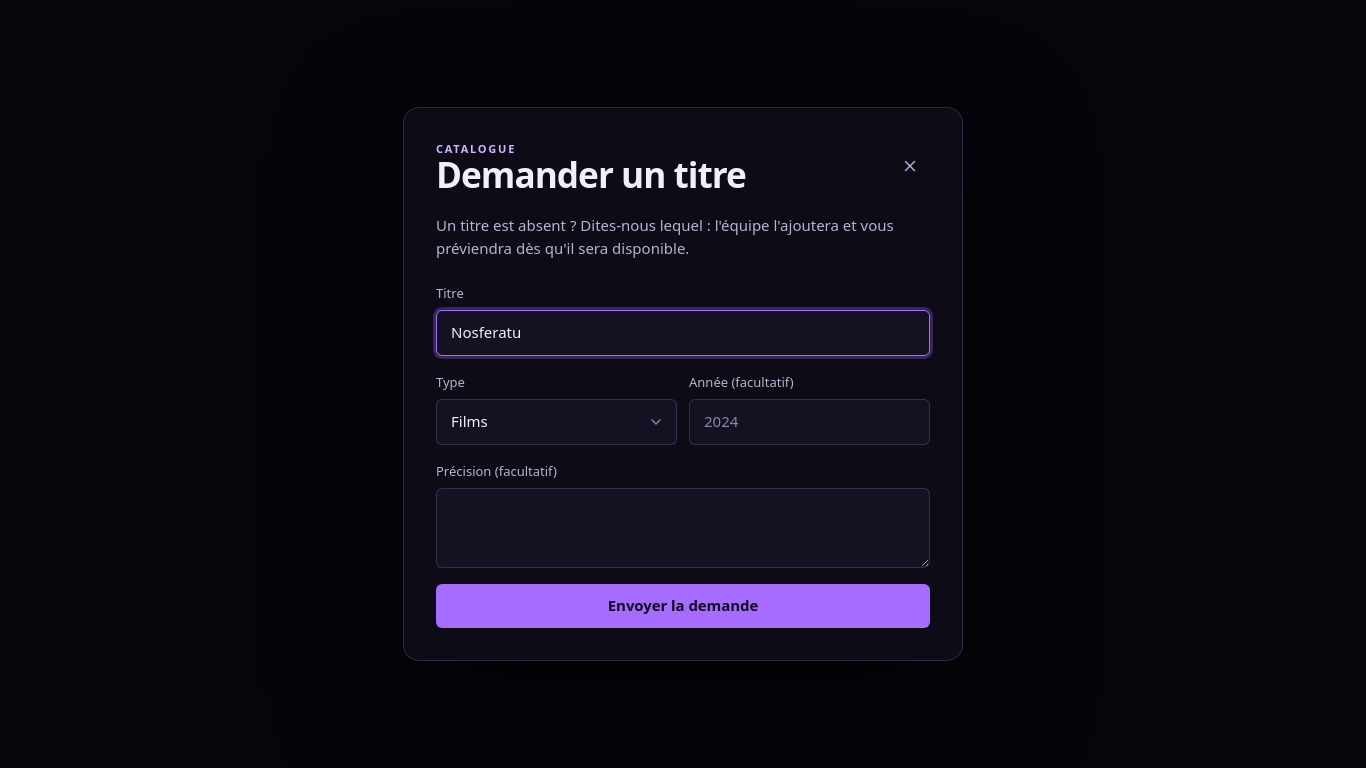
it: RequestDialog : messages d'erreur › un serveur injoignable donne un message traduit, jamais le mot « network »
The width and height of the screenshot is (1366, 768).
Click the button "Envoyer la demande": [683, 606] box [436,584,930,628]
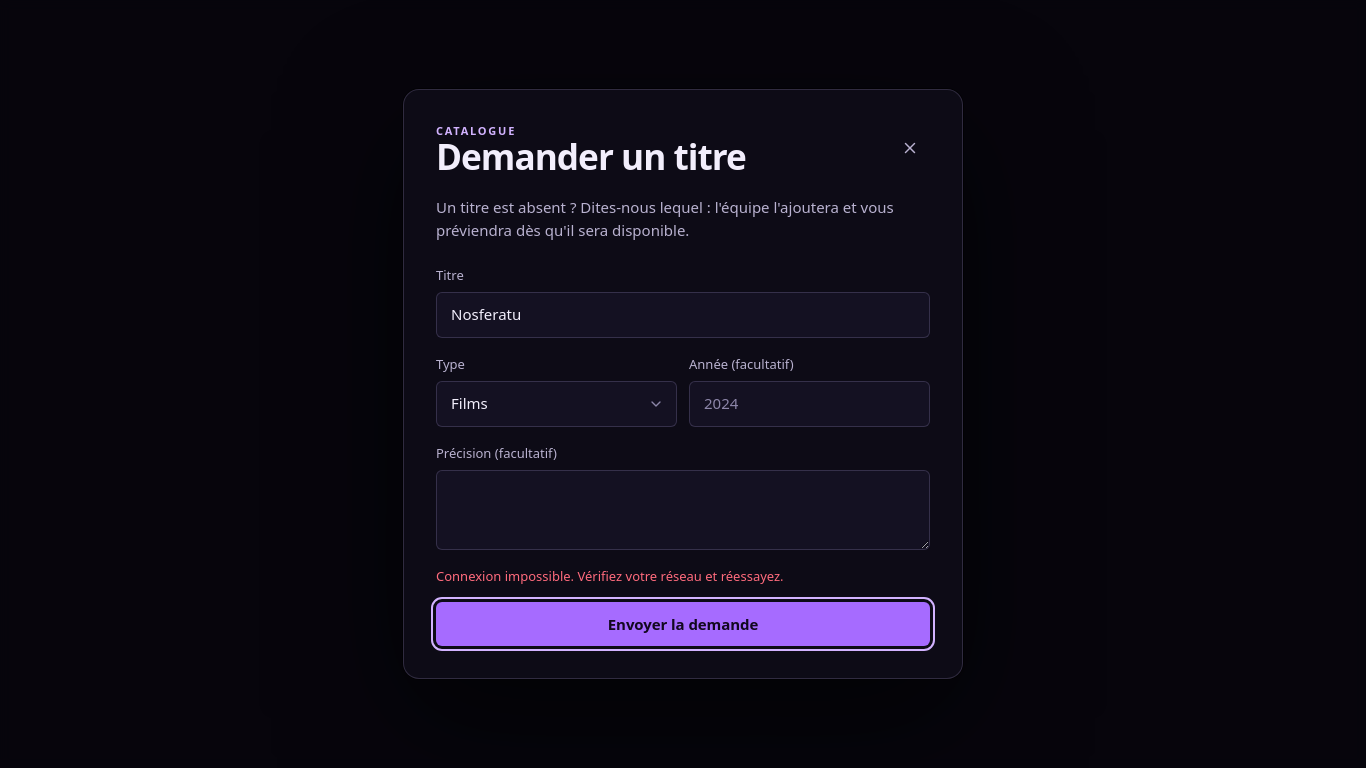
Expected: the message does not show "network", [436,567,784,585]
Now the message reads "Connexion impossible. Vérifiez votre réseau et réessayez.", box [436,567,784,585]
